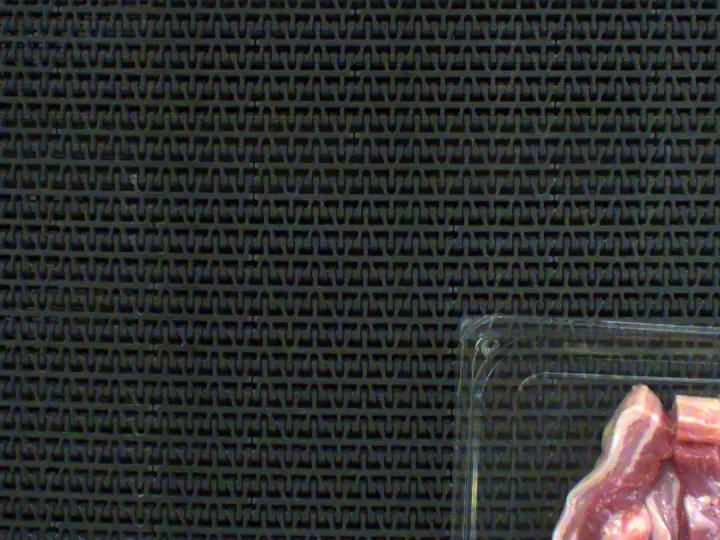twisted-meat: (656, 391, 720, 540)
